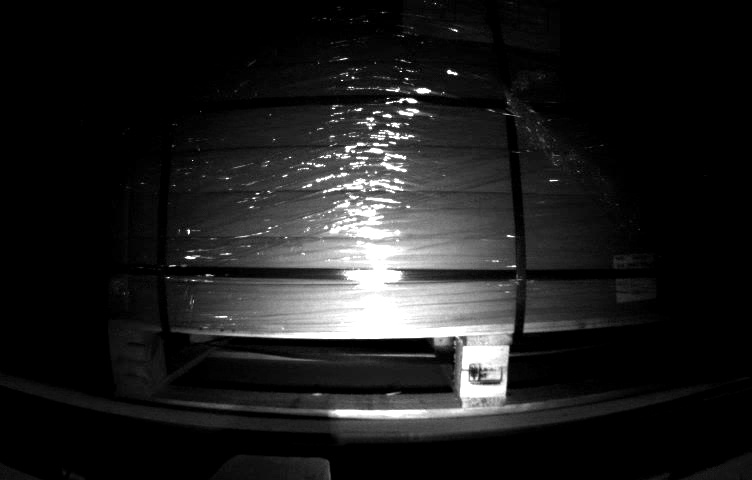True Barcode: (613, 253, 662, 299)
